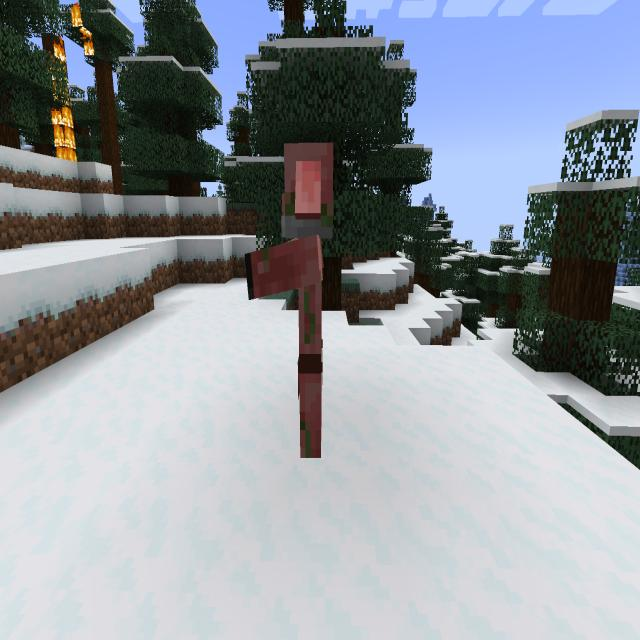Zombified Piglin: (241, 129, 351, 480)
